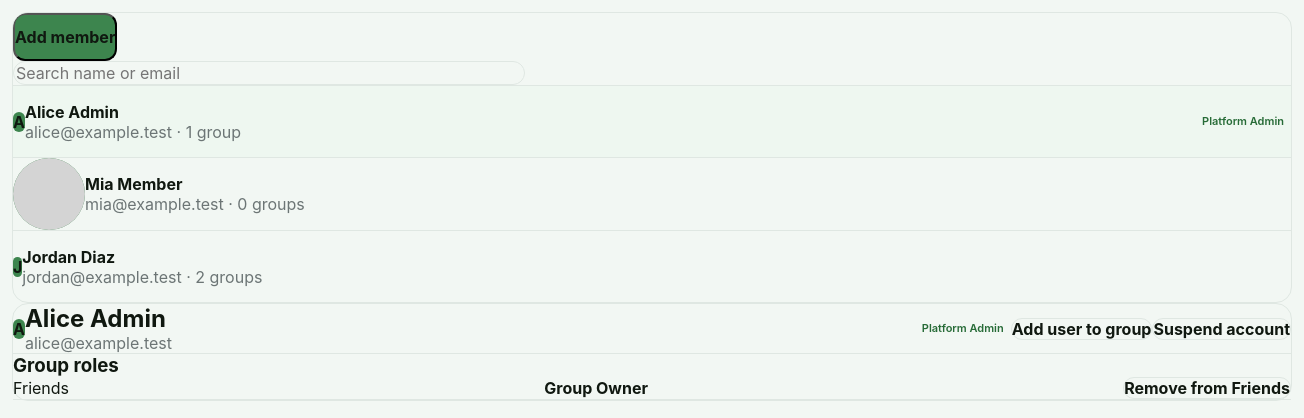
Test: UsersAdminView › shows the empty-result message when search matches nobody and falls back to a 'Select a user' detail state
Type "nobody" into the search field named "Search users" at {"x": 269, "y": 73}, box [14, 62, 524, 84]
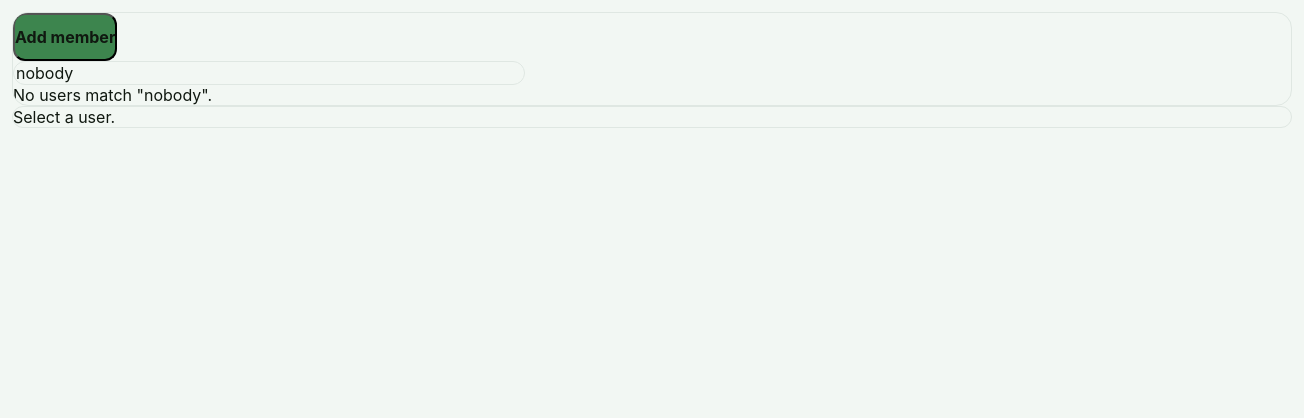
Now the text "No users match \"nobody\"." is shown, box [13, 85, 212, 105]
Now the text "Select a user." is shown, box [13, 107, 115, 127]
